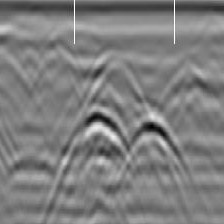Utility: (60, 105, 129, 191), (131, 113, 191, 175)
